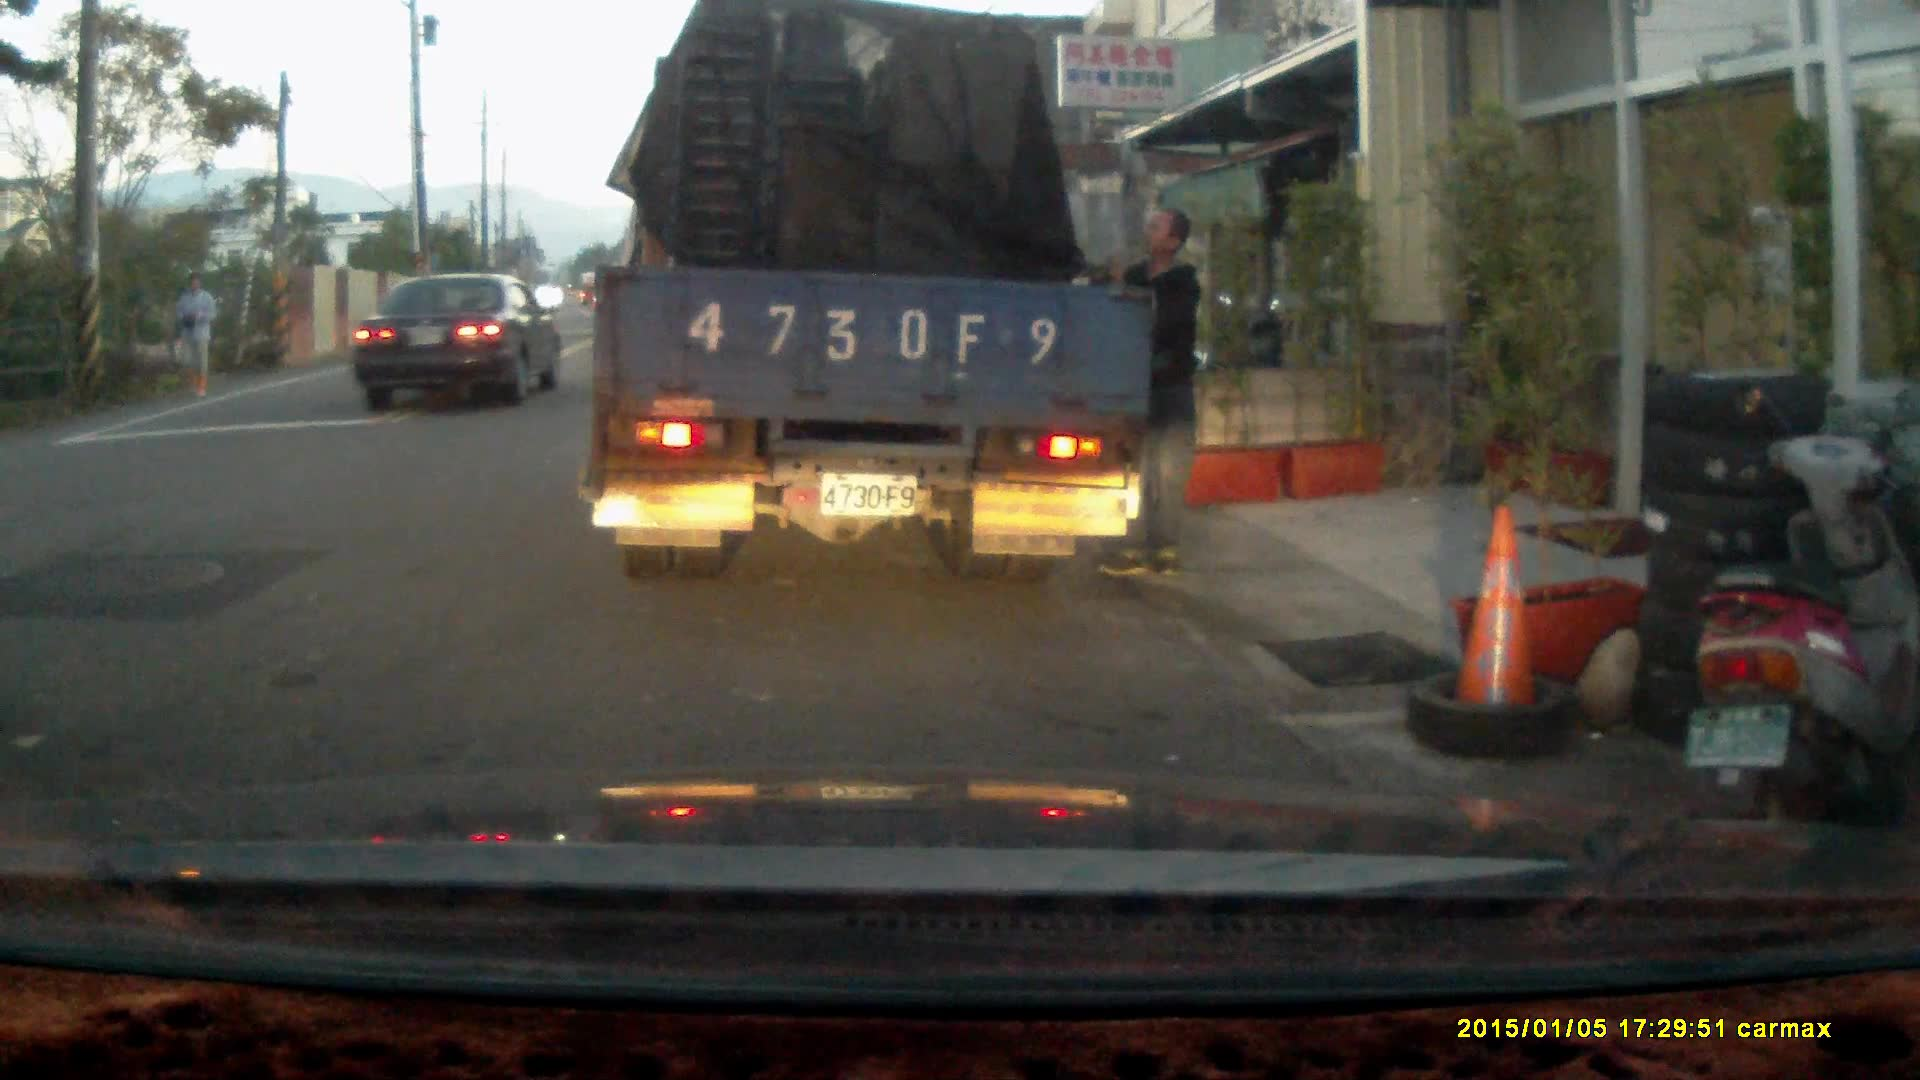pedestrian: (1079, 208, 1203, 581), (170, 272, 216, 403)
vehicle: (594, 23, 1155, 572), (355, 270, 565, 416)
